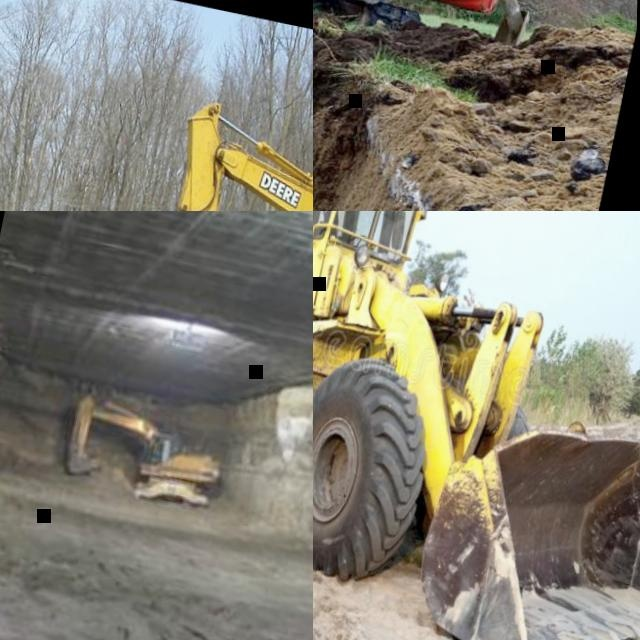Person: (313, 0, 402, 211)
machinery: (313, 211, 640, 640), (121, 93, 313, 211), (61, 389, 234, 513), (313, 0, 595, 66)
